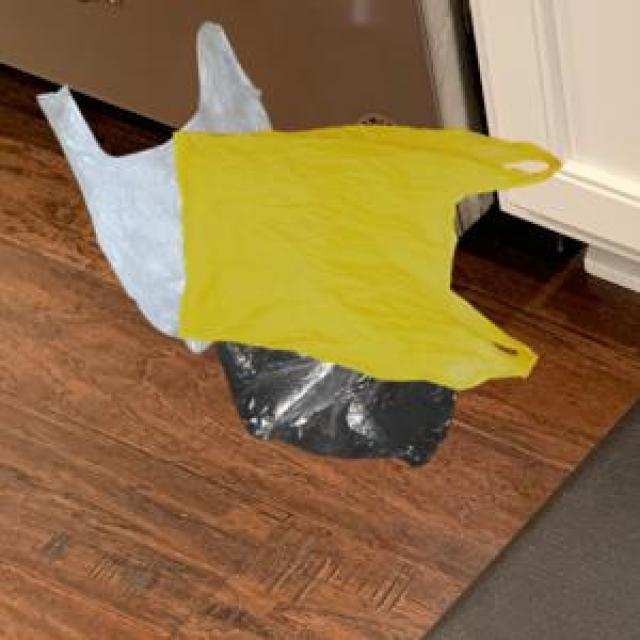waste: (38, 24, 560, 389)
